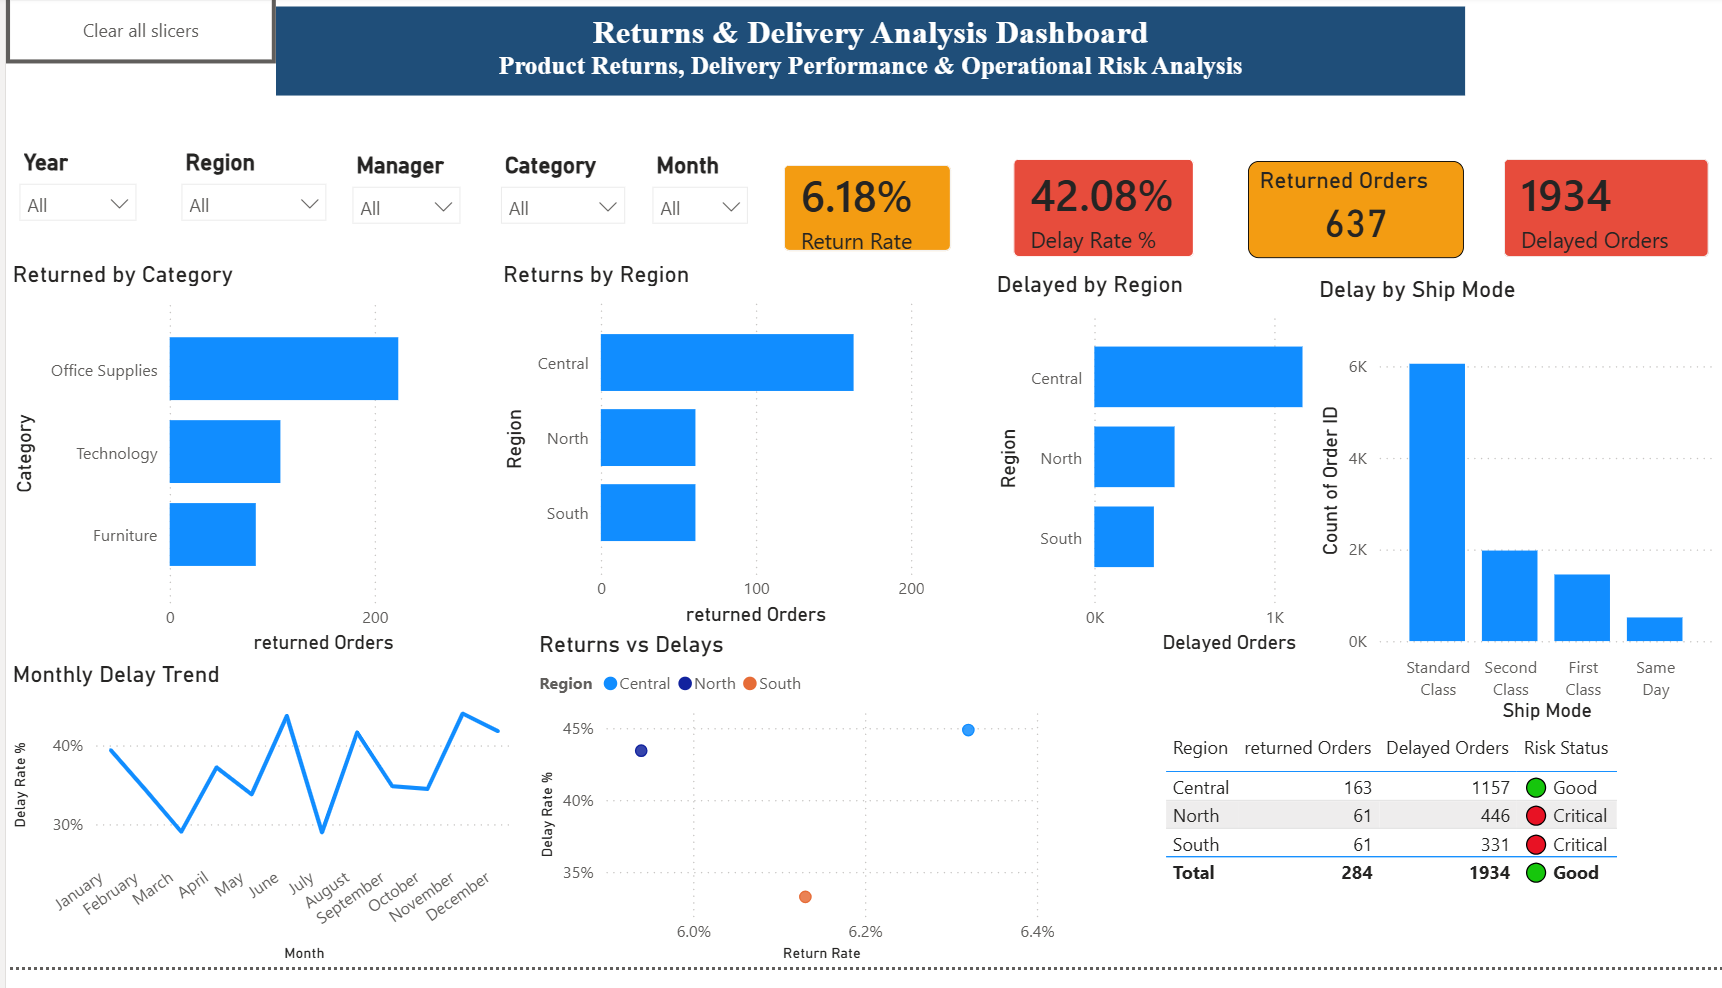

What the dashboard file says about the page in this screenshot:
{"tool":"powerbi","page":{"name":"Returns & Delivery","canvas":[1280,720],"ordinal":4},"visuals":[{"type":"kpi","title":"Returned Orders","fields":{"Indicator":["CountNonNull(Returns.Order ID)"],"TrendLine":["Returns.Returned"]},"box":[920.9,122.2,160.3,72.3],"z":0},{"type":"cardVisual","fields":{"Data":["Fact_orders.Delayed Orders"]},"box":[1093,103.8,186.5,107.7],"z":1000},{"type":"cardVisual","fields":{"Data":["Fact_orders.Delay Rate %"]},"box":[729.1,103.8,168.2,107.7],"z":2000},{"type":"cardVisual","fields":{"Data":["Date.Return Rate"]},"box":[559.6,107.7,159,98.5],"z":3000},{"type":"barChart","title":"Returns by Region","fields":{"Category":["Fact_orders.Region"],"Y":["Date.returned Orders"]},"box":[363.9,195.7,321.9,274.6],"z":4000},{"type":"barChart","title":"Returned  by Category","fields":{"Y":["Date.returned Orders"],"Category":["Target.Category"]},"box":[0,195.7,363.9,295.6],"z":5000},{"type":"barChart","title":"Delayed  by Region","fields":{"Y":["Fact_orders.Delayed Orders"],"Category":["People.Region"]},"box":[729.1,203.6,289,287.7],"z":6000},{"type":"columnChart","title":"Delay by Ship Mode","fields":{"Category":["Fact_orders.Ship Mode"],"Y":["CountNonNull(Fact_orders.Order ID)"]},"box":[968.2,206.3,302.2,335],"z":7000},{"type":"scatterChart","title":"Returns vs Delays","fields":{"X":["Date.Return Rate"],"Y":["Fact_orders.Delay Rate %"],"Series":["People.Region"]},"box":[390.2,470.3,391.5,249.6],"z":8000},{"type":"textbox","box":[199.7,7.9,881.5,65.7],"z":10000},{"type":"slicer","fields":{"Values":["Date.Date.Variation.Date Hierarchy.Year"]},"box":[0,107.7,106.4,68.3],"z":11000},{"type":"slicer","fields":{"Values":["Fact_orders.Region"]},"box":[119.5,107.7,127.4,77.5],"z":12000},{"type":"slicer","fields":{"Values":["People.Manager"]},"box":[247,110.4,99.8,65.7],"z":13000},{"type":"slicer","fields":{"Values":["Target.Category"]},"box":[357.3,110.4,111.7,74.9],"z":14000},{"type":"slicer","fields":{"Values":["Date.Date.Variation.Date Hierarchy.Month"]},"box":[469,110.4,90.6,67],"z":15000},{"type":"lineChart","title":"Monthly Delay Trend","fields":{"Category":["Date.Date.Variation.Date Hierarchy.Month"],"Y":["Fact_orders.Delay Rate %"]},"box":[0,492.6,379.7,227.3],"z":16000},{"type":"tableEx","fields":{"Values":["People.Region","Date.returned Orders","Fact_orders.Delayed Orders","Date.Risk Status"]},"box":[853.9,541.3,349.5,178.7],"z":17000},{"type":"actionButton","box":[0,0,200,50],"z":18000}]}

Visuals, with their boxes in screenshot pixels (x1, y1, x2, y2), scaled from the page's 1280x720 canvas onto the 1722x988 screenshot:
"Returned Orders" kpi: [1239,168,1455,267]
cardVisual - Fact_orders.Delayed Orders: [1470,142,1721,290]
cardVisual - Fact_orders.Delay Rate %: [981,142,1207,290]
cardVisual - Date.Return Rate: [753,148,967,283]
"Returns by Region" barChart: [490,269,923,645]
"Returned  by Category" barChart: [0,269,490,674]
"Delayed  by Region" barChart: [981,279,1370,674]
"Delay by Ship Mode" columnChart: [1303,283,1709,743]
"Returns vs Delays" scatterChart: [525,645,1052,987]
textbox: [269,11,1455,101]
slicer - Date.Date.Variation.Date Hierarchy.Year: [0,148,143,242]
slicer - Fact_orders.Region: [161,148,332,254]
slicer - People.Manager: [332,151,467,242]
slicer - Target.Category: [481,151,631,254]
slicer - Date.Date.Variation.Date Hierarchy.Month: [631,151,753,243]
"Monthly Delay Trend" lineChart: [0,676,511,987]
tableEx - People.Region x Date.returned Orders: [1149,743,1619,987]
actionButton: [0,0,269,69]
